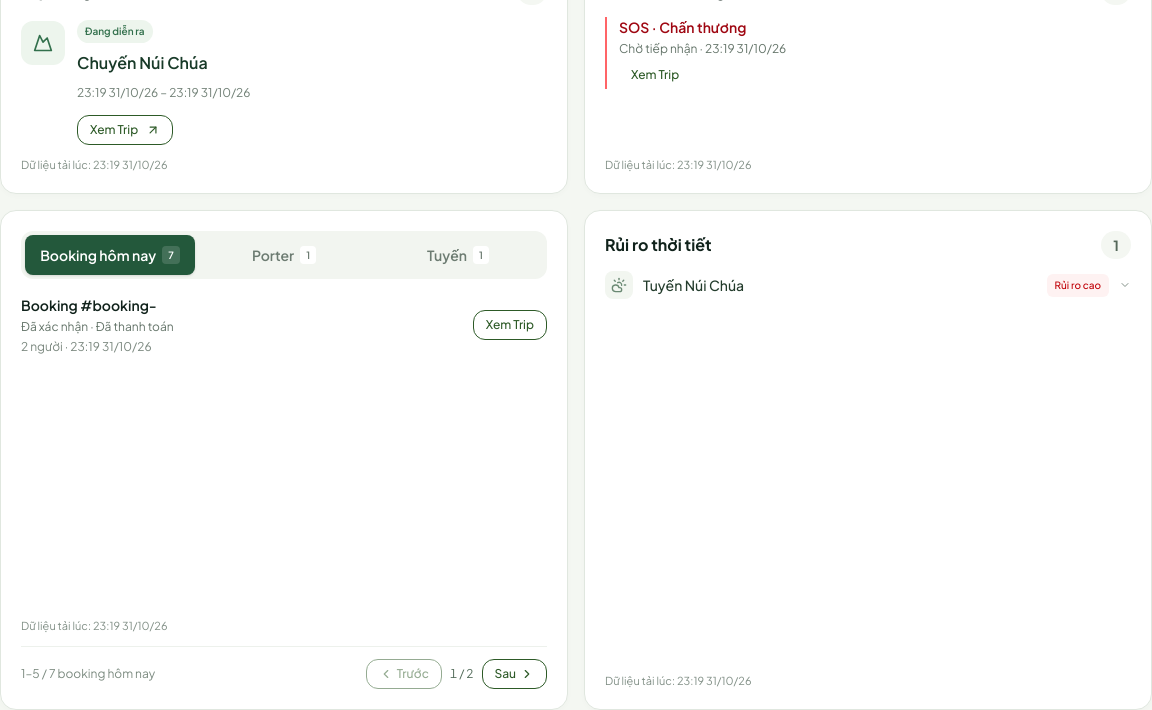
Scenario: CTMS-378 HostDashboardOverview › supports retry and previous-page navigation when loading another inventory page fails
(page scrolled)
Step 1. Click the button "Sau" → click(514, 674), box x1=482 y1=659 x2=547 y2=689
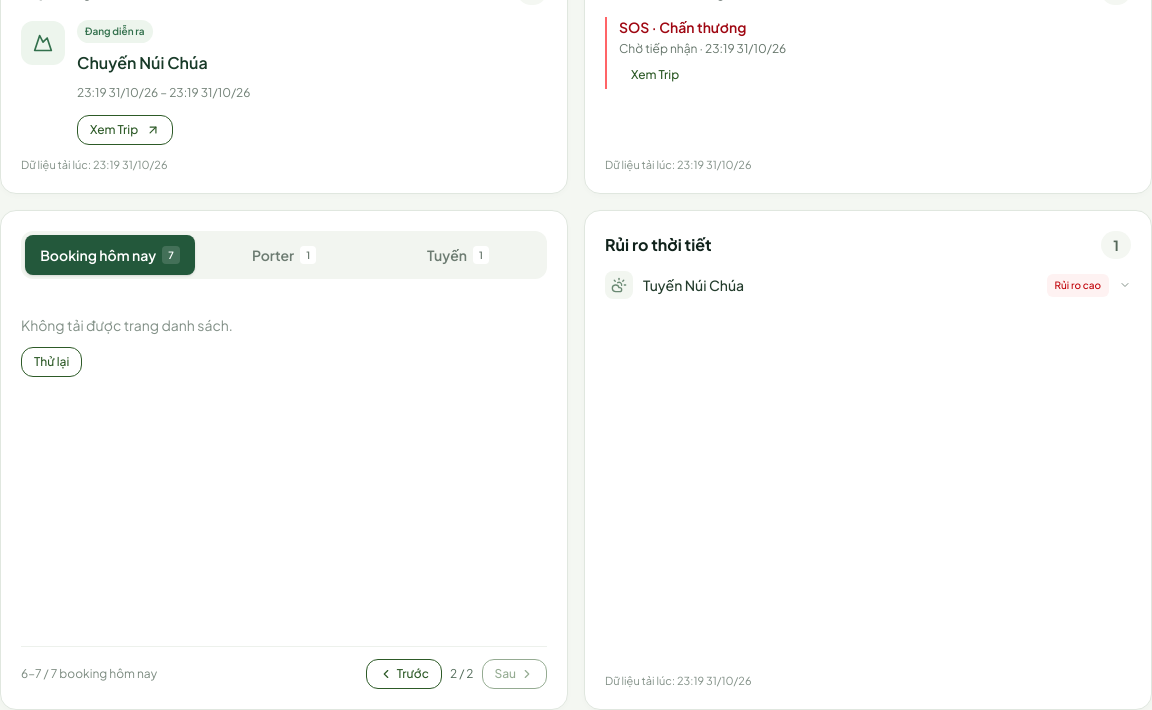
expect the text "Không tải được trang danh sách." is shown: met, box x1=21 y1=316 x2=233 y2=334
expect the button "Trước" is enabled: met, box x1=366 y1=659 x2=442 y2=689
Step 2. Click the button "Thử lại" → click(52, 362), box x1=21 y1=347 x2=82 y2=377
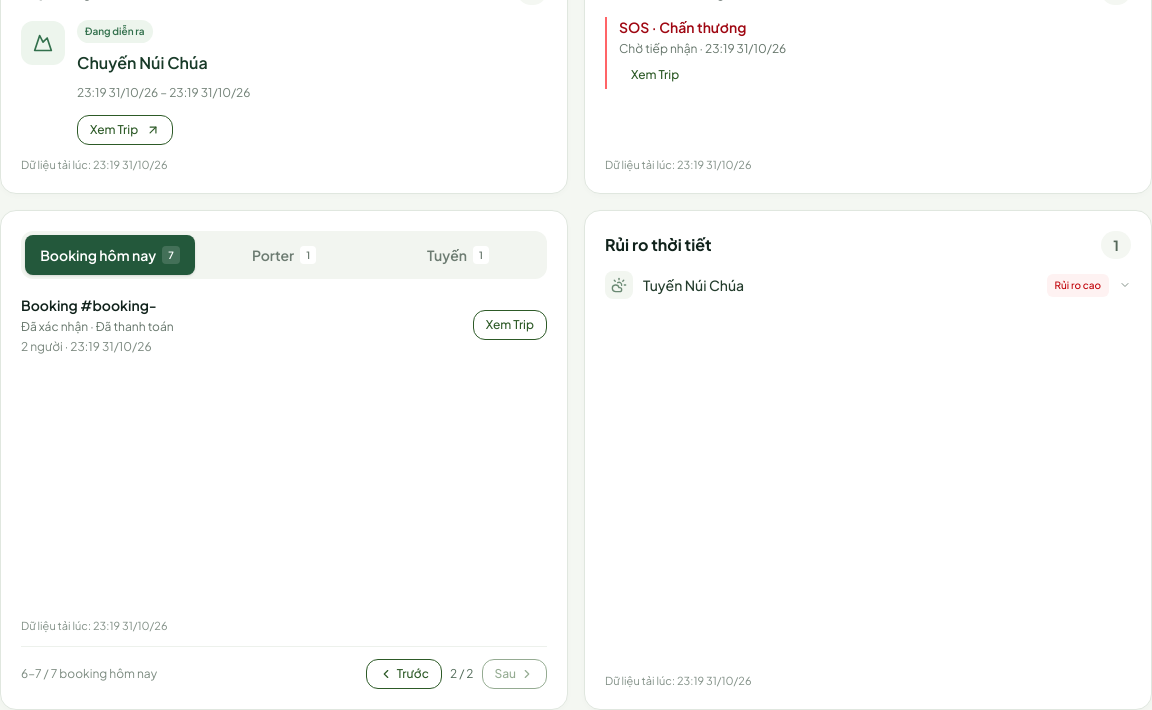
expect the navigation bar named "Phân trang Booking hôm nay" shows "2 / 2": met, box x1=21 y1=646 x2=547 y2=689
expect the element named "Booking hôm nay" is shown: met, box x1=21 y1=295 x2=547 y2=634
